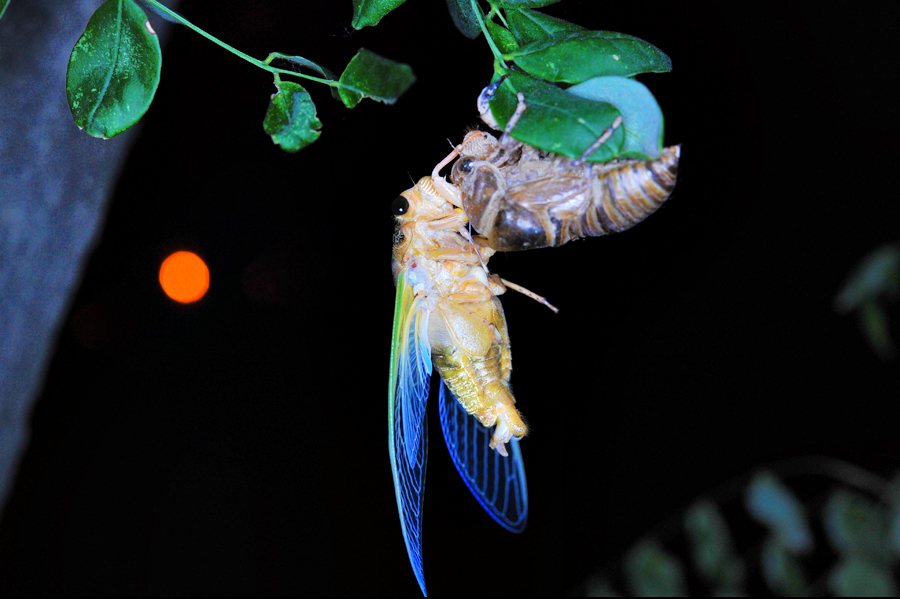chan: (358, 174, 525, 521), (451, 120, 688, 246)
